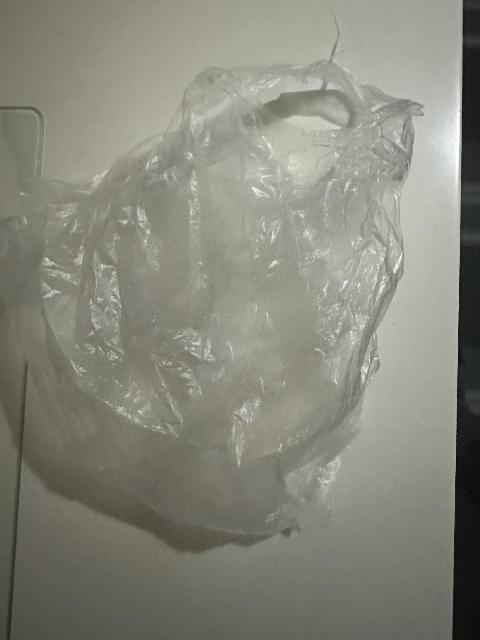Plastik: (2, 48, 425, 537)
